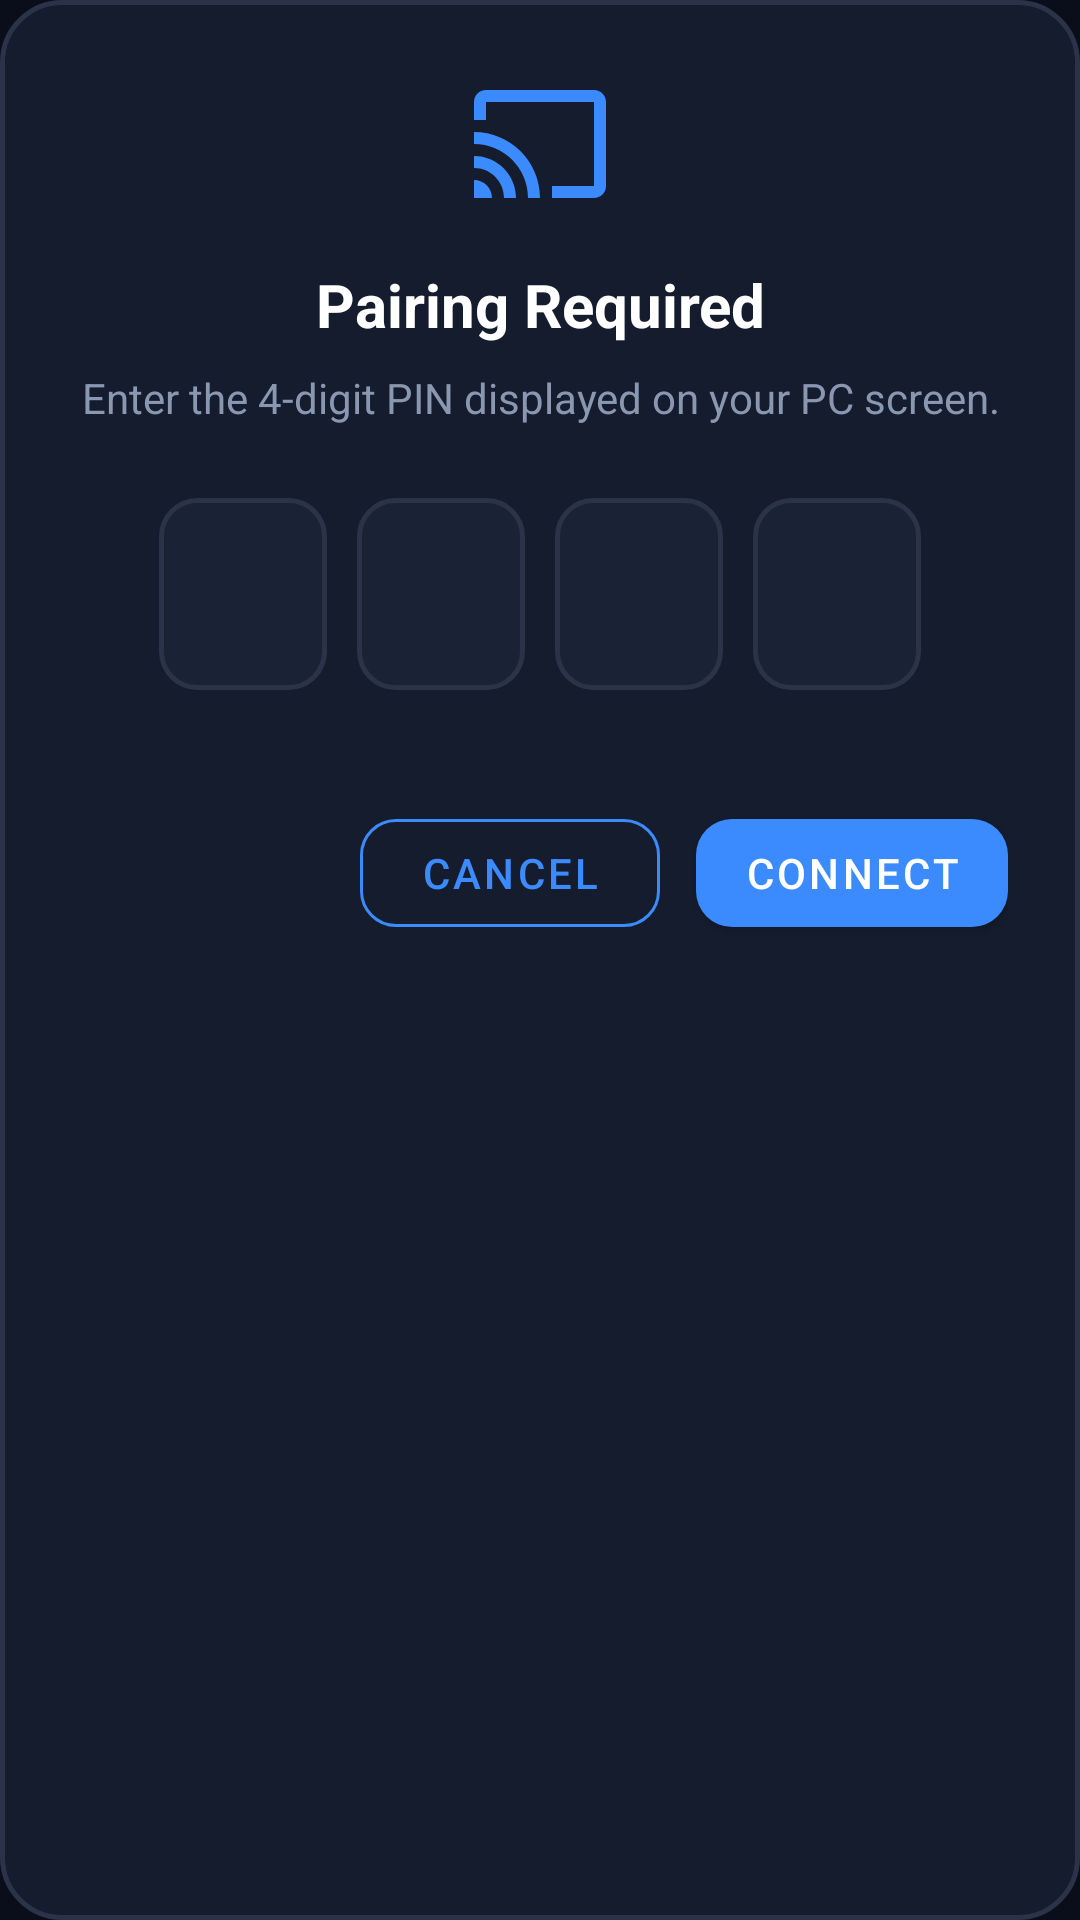

Point at icon controls on the screen. Image size 1080x1920, points as point (x, y).
cast: point (540, 144)
